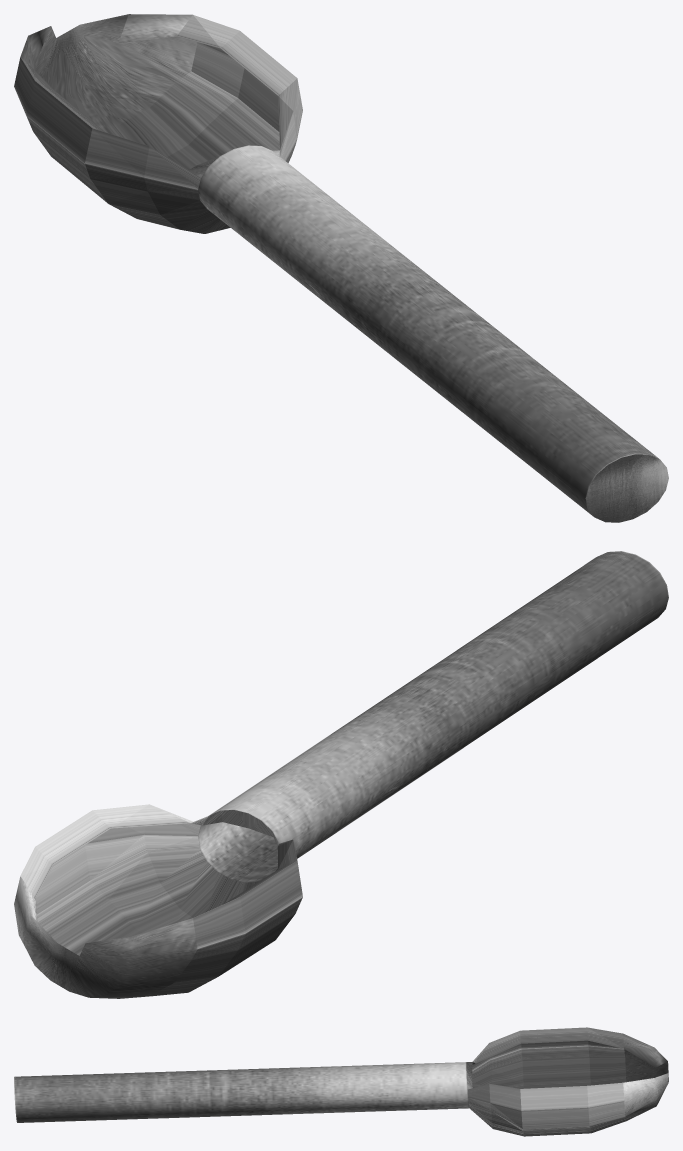
The model's file is cucharita.obj.
3 views of the same model, one above another, from view 1: azimuth 30°, elevation 25°; view 2: azimuth 150°, elevation 25°; view 3: azimuth 270°, elevation 25° (orthographic). The views are drawn at different scales.
Parts seen in each view (by area): view 1: Cylinder001; view 2: Cylinder001; view 3: Cylinder001.
Boxes of the visible parts, x1=… form: Cylinder001: x1=14, y1=14, x2=668, y2=522; Cylinder001: x1=14, y1=551, x2=668, y2=998; Cylinder001: x1=14, y1=1027, x2=668, y2=1136.
Bounding box in the file's own units: 2.76 × 1.48 × 12.31.
